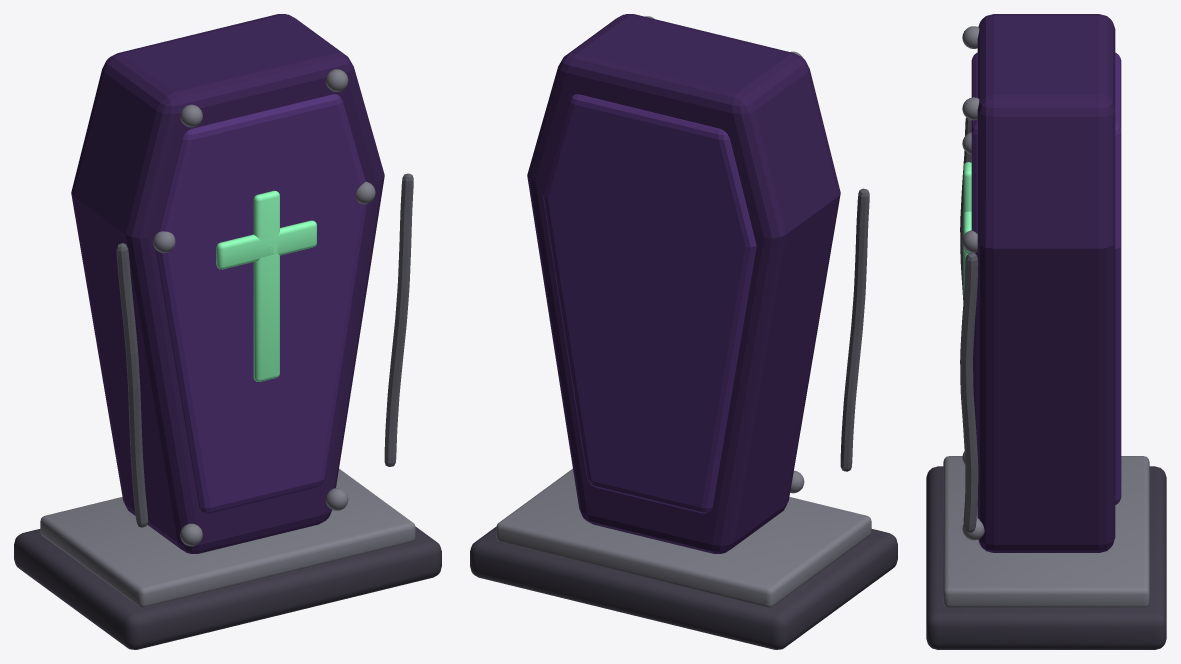
The model's file is CoffinCursed.fbx.
3 views of the same model, side by side, from view 1: azimuth 30°, elevation 25°; view 2: azimuth 150°, elevation 25°; view 3: azimuth 270°, elevation 25° (orthographic).
Visible parts, largest first — view 1: CoffinCursed; view 2: CoffinCursed; view 3: CoffinCursed.
Part boxes in pixels (x1,y1,x2,y2): CoffinCursed: [14, 14, 441, 649]; CoffinCursed: [470, 14, 897, 649]; CoffinCursed: [926, 14, 1166, 649].
Size of the model in its own units: 6.4 by 10.05 by 4.2.
1 material, 1 textured.
